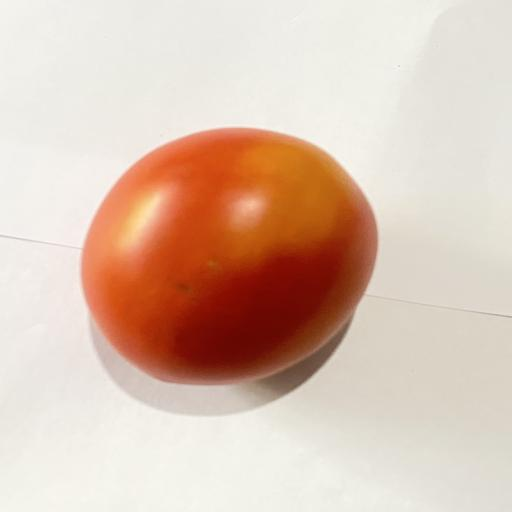ripe: (81, 128, 377, 385)
